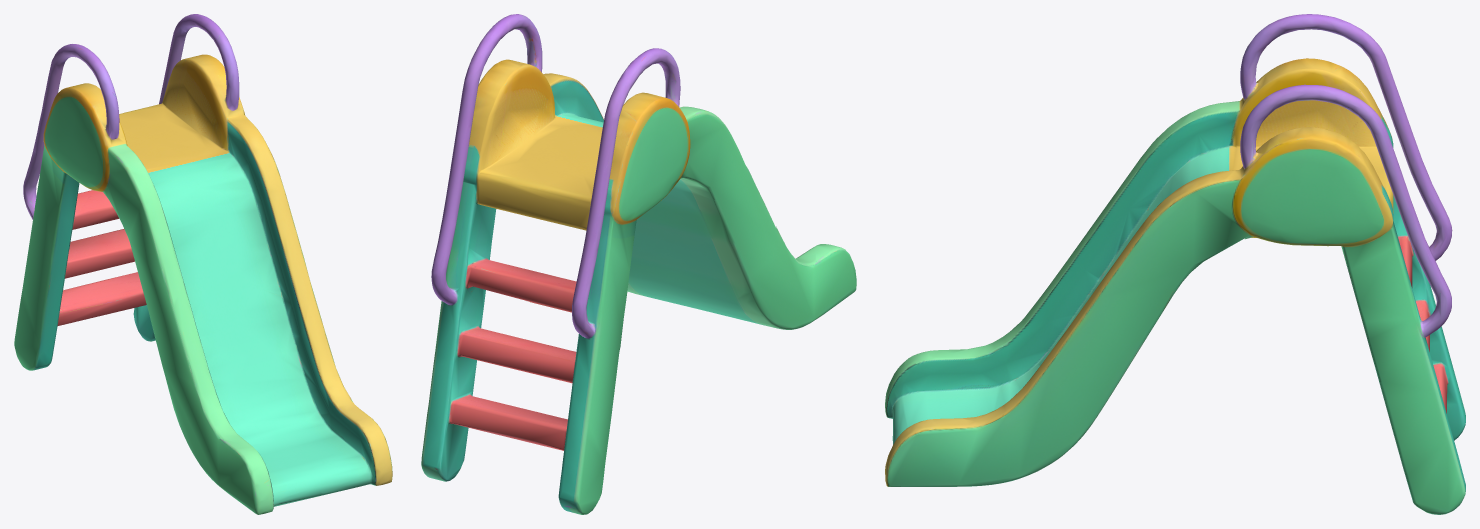
Rendered from static.glb.
3 views of the same model, side by side, from view 1: azimuth 30°, elevation 25°; view 2: azimuth 150°, elevation 25°; view 3: azimuth 270°, elevation 25° (orthographic). The views are drawn at different scales.
Parts seen in each view (by area): view 1: Mesh_0; view 2: Mesh_0; view 3: Mesh_0.
Boxes of the visible parts, left/top/right/bottom form: Mesh_0: left=14, top=14, right=392, bottom=514; Mesh_0: left=421, top=14, right=856, bottom=514; Mesh_0: left=885, top=14, right=1465, bottom=514.
Size of the model in its own units: 0.6542 by 1.54 by 1.9.
1 material, 1 textured.
